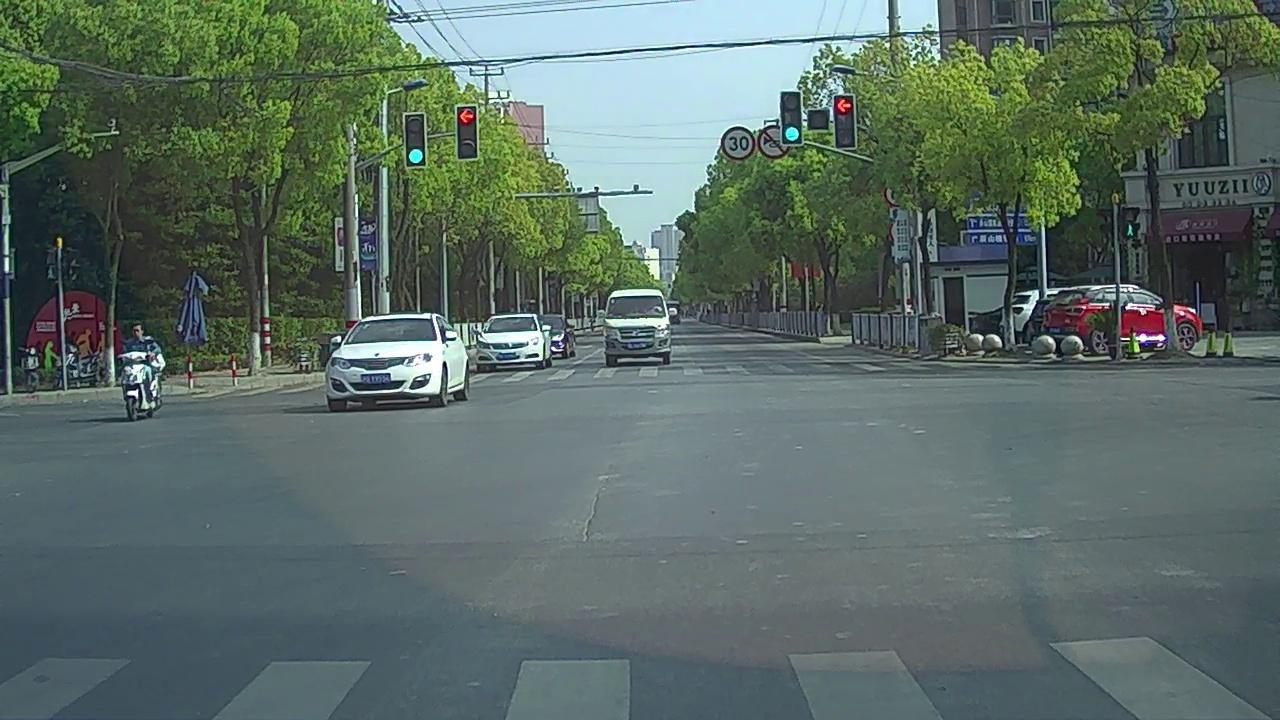traffic_light: (833, 94, 857, 149), (404, 113, 427, 168), (457, 105, 479, 160), (783, 92, 802, 145)
